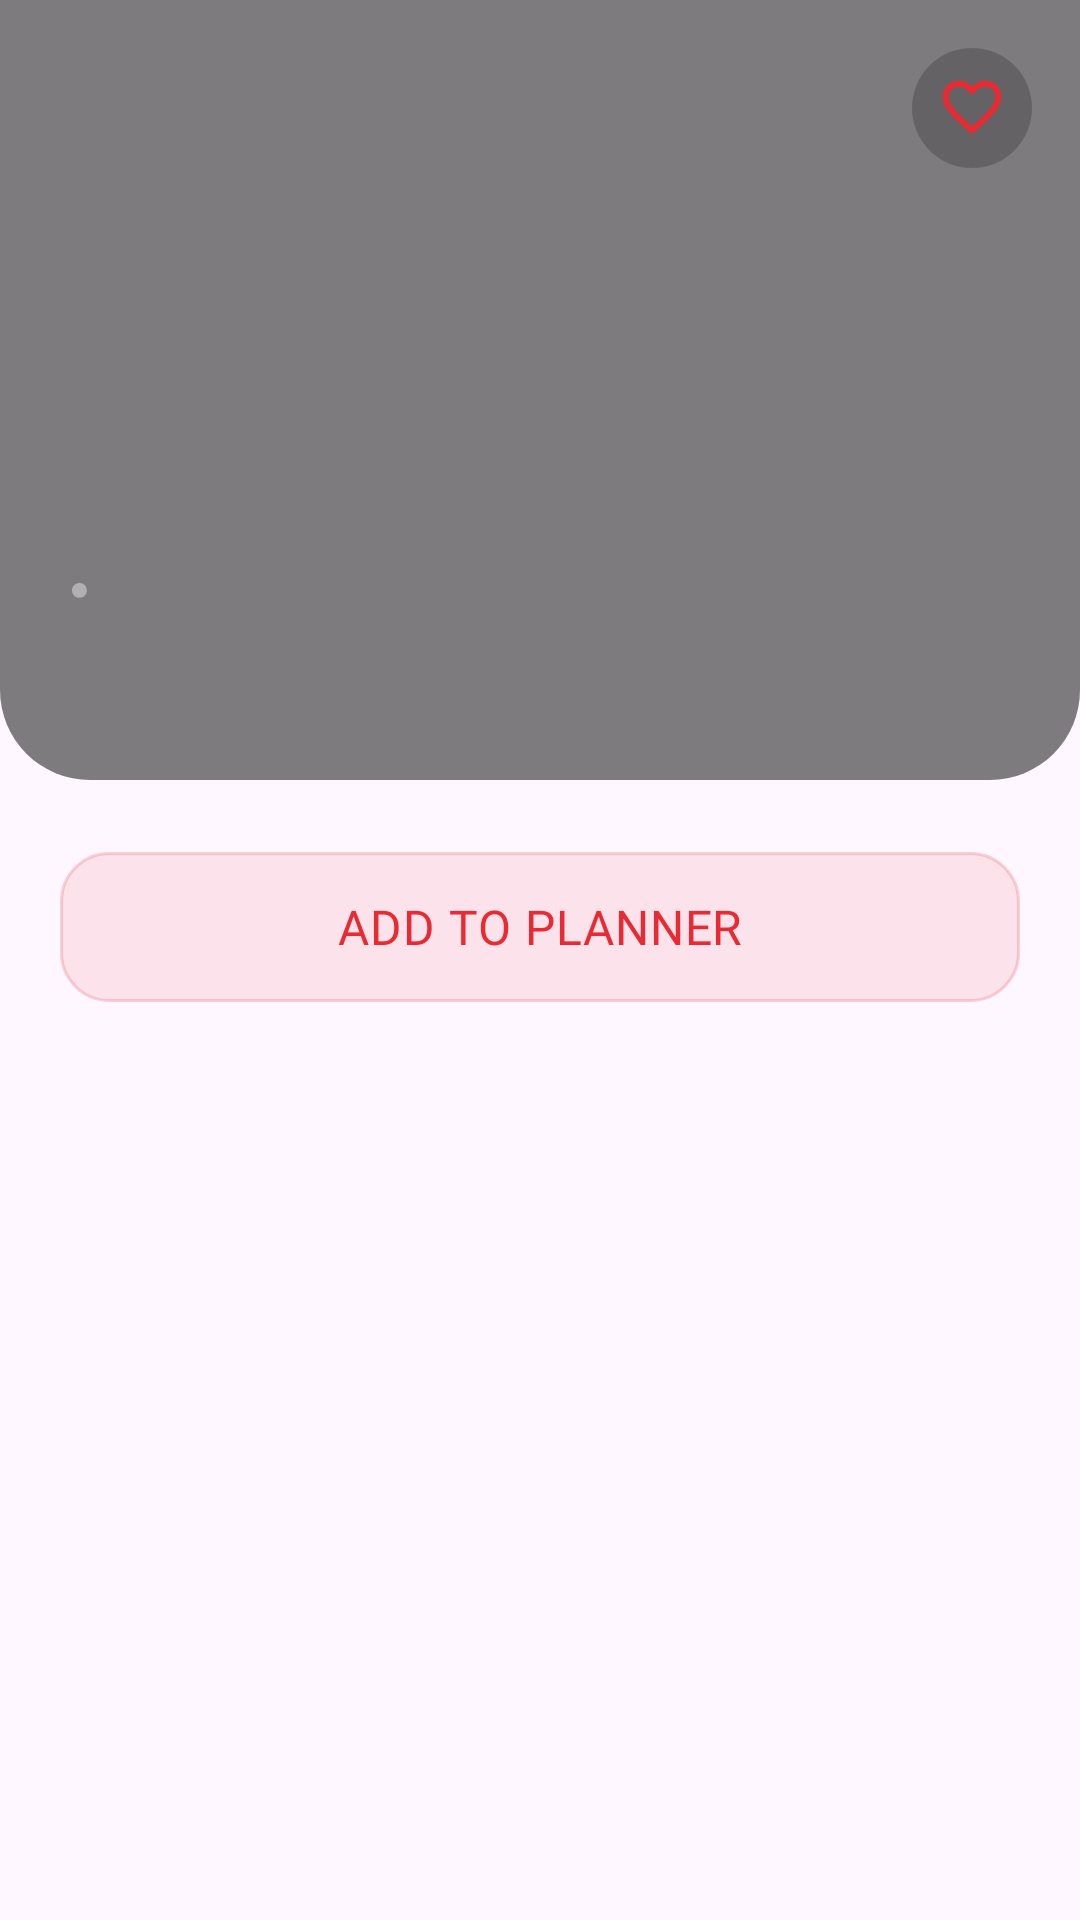

Icons on this 1080px x 1920px Android screen, each with its box as detection(x1, y1, x2, y2):
addfav: detection(912, 48, 1032, 168)
